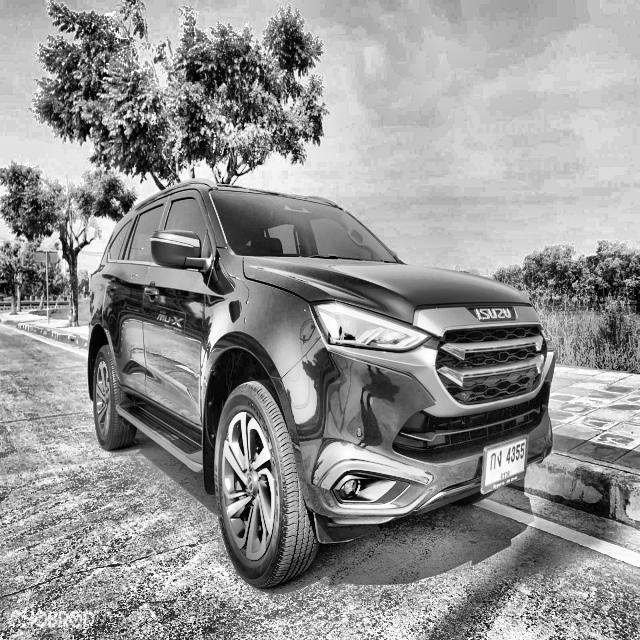license-plate: (479, 435, 534, 502)
